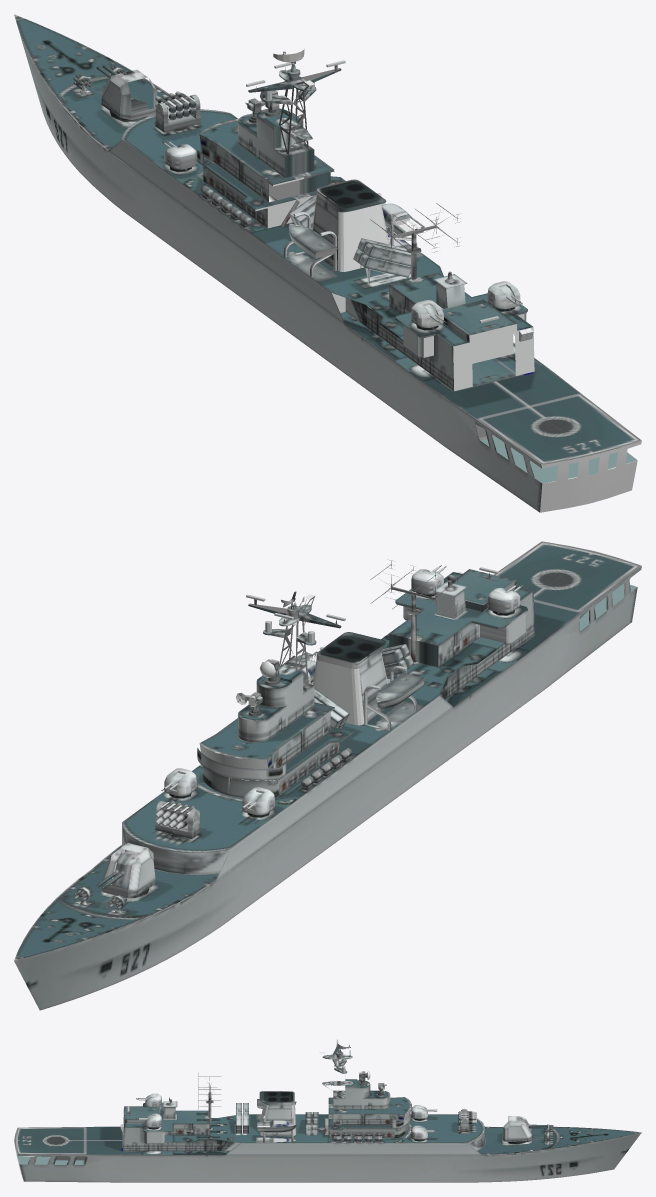
Rendered from hwj.gltf.
3 views of the same model, one above another, from view 1: azimuth 30°, elevation 25°; view 2: azimuth 150°, elevation 25°; view 3: azimuth 270°, elevation 25° (orthographic). The views are drawn at different scales.
Parts seen in each view (by area): view 1: Group31; view 2: Group31; view 3: Group31.
Boxes of the visible parts, left/top/right/bottom form: Group31: left=14, top=14, right=641, bottom=512; Group31: left=14, top=541, right=641, bottom=1010; Group31: left=14, top=1039, right=641, bottom=1182.
Size of the model in its own units: 15.72 by 32.53 by 145.
9 materials, 1 textured.
